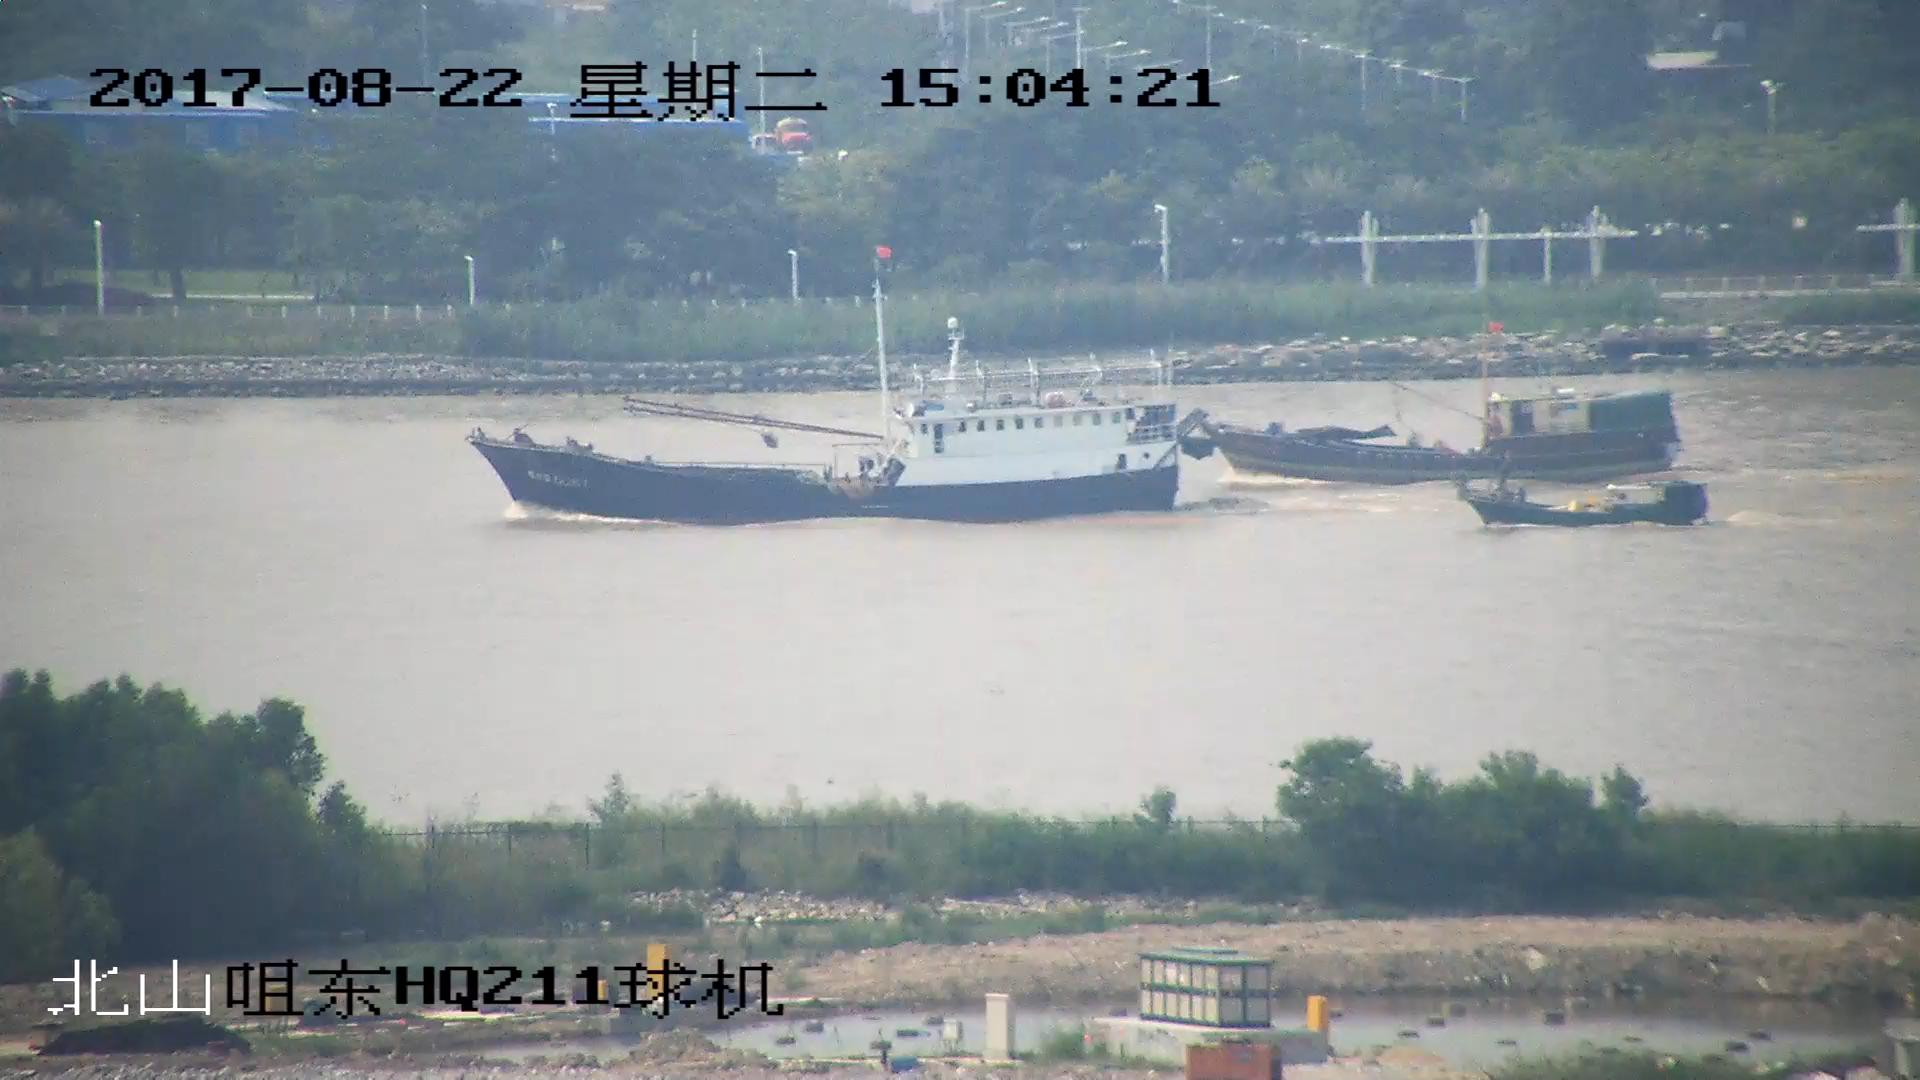fishing boat: (476, 246, 1187, 518), (1182, 322, 1684, 484), (1459, 463, 1708, 533)
